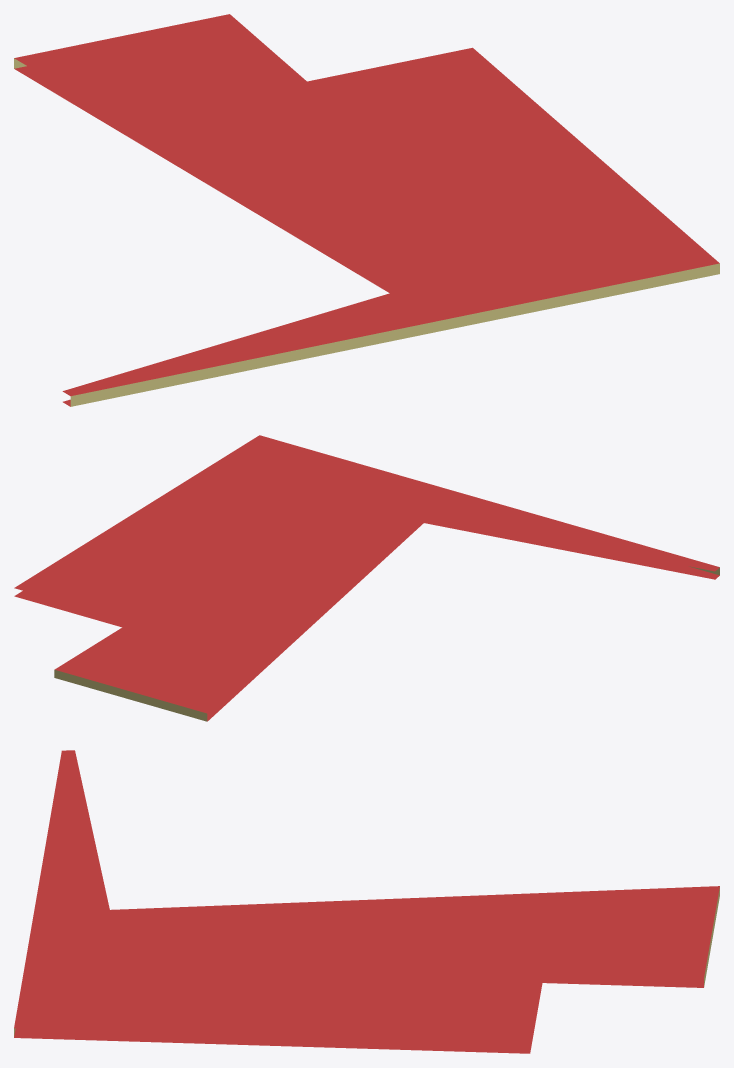
3 renders of one model, top to bottom at view 1: azimuth 30°, elevation 25°; view 2: azimuth 150°, elevation 25°; view 3: azimuth 270°, elevation 25°, orthographic. The views are drawn at different scales.
Size of the model in its own units: 6.47 by 6.57 by 0.1.
